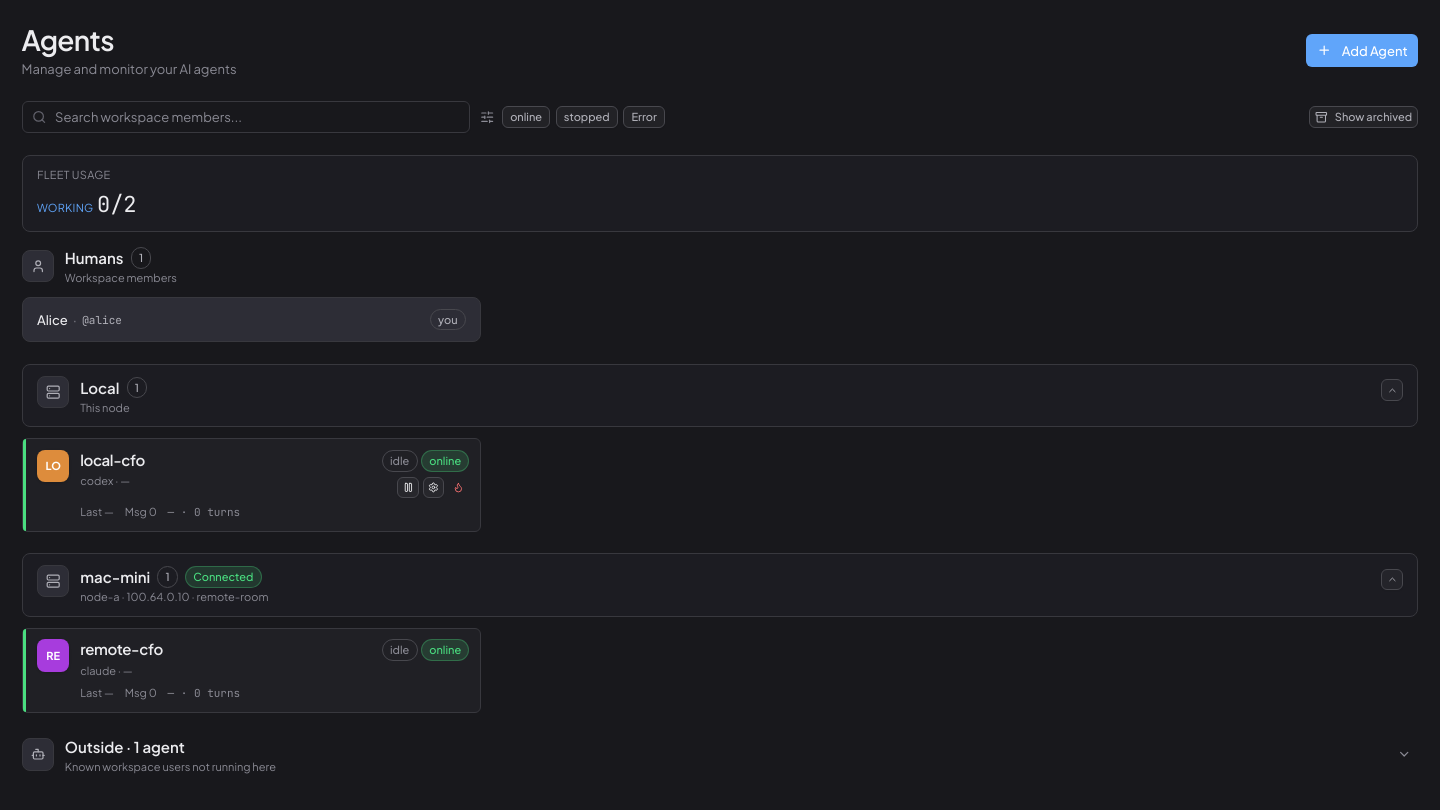
Scenario: AgentList fleet grouping › hides Humans and Outside while a status filter is active
Click the button "online". click: [526, 117]
box: [502, 106, 550, 128]
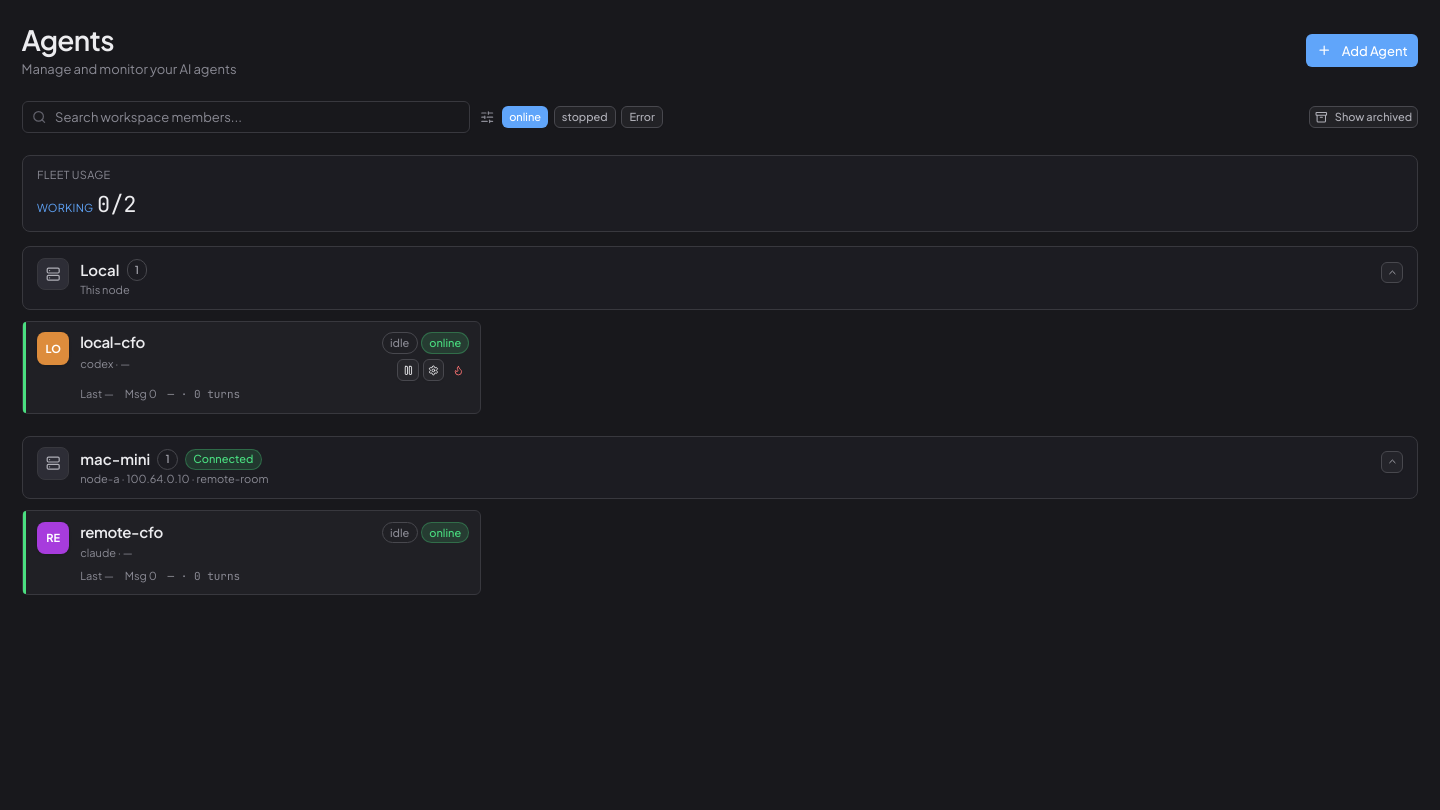
Expected: the element with test id "agents-humans" is gone
Expected: the button with test id "agents-outside-toggle" is gone
